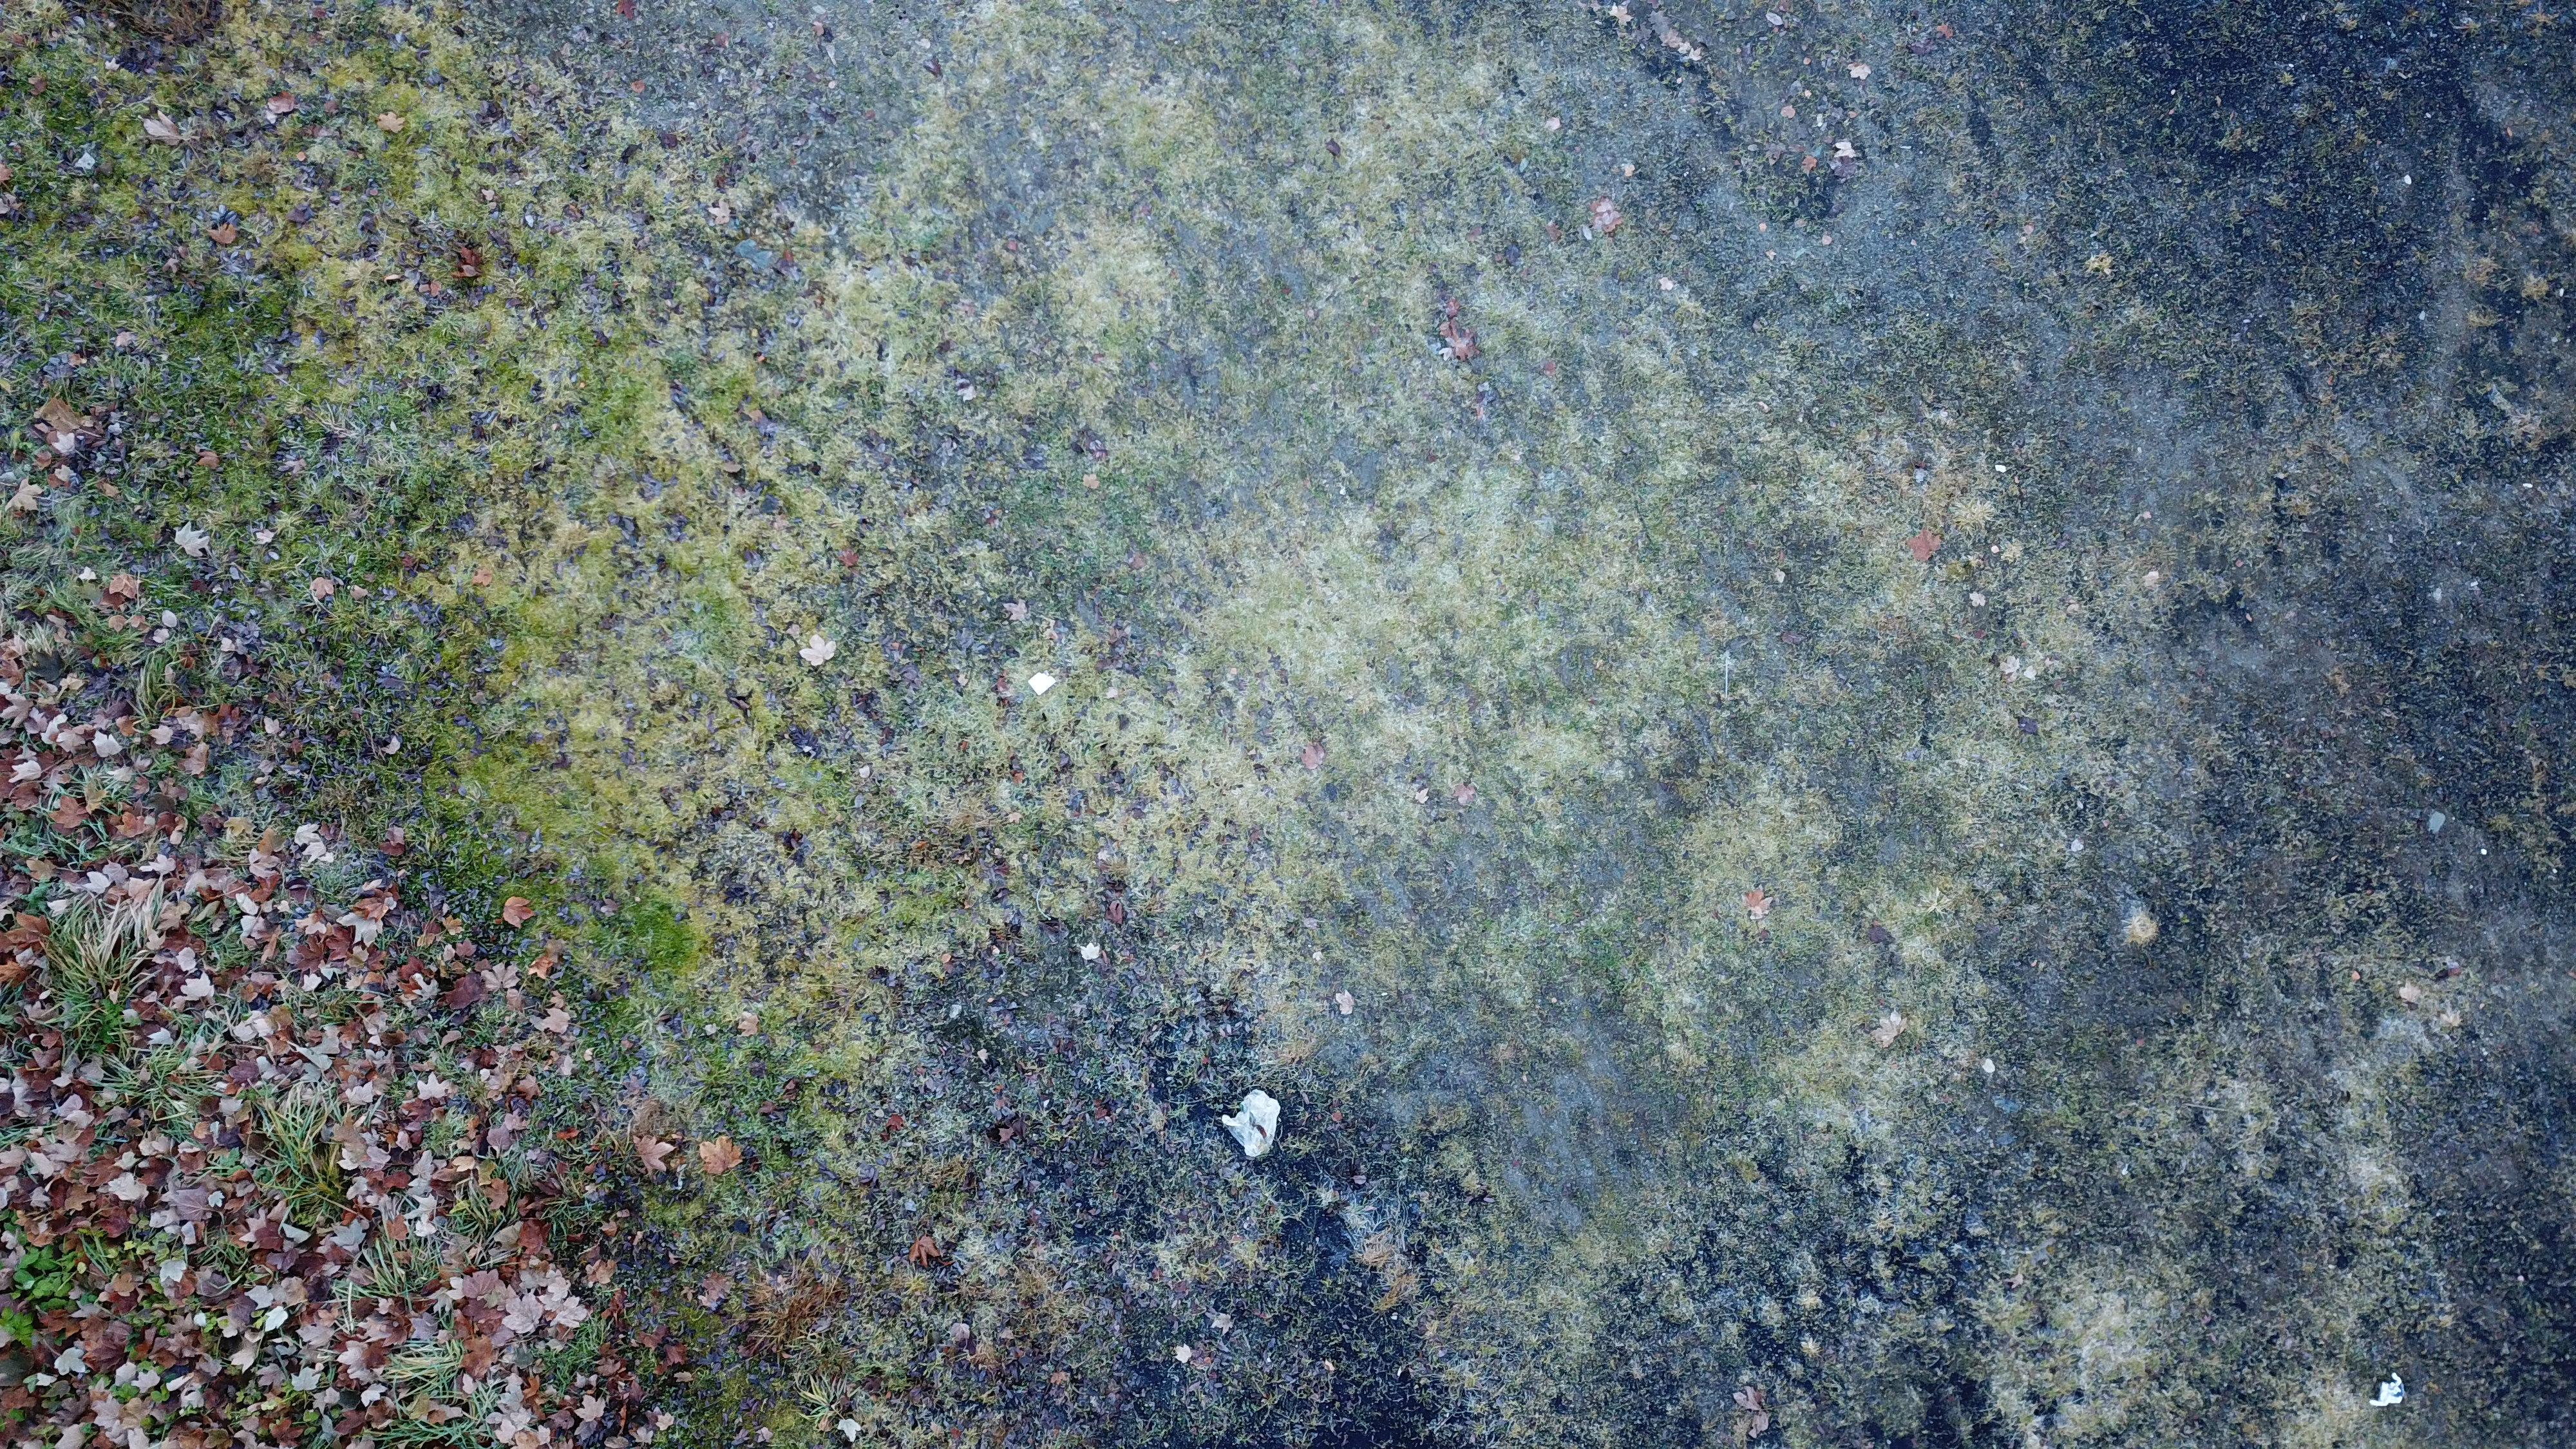Plastic: (1224, 1085, 1288, 1162), (2373, 1373, 2417, 1414), (1024, 671, 1058, 702)
